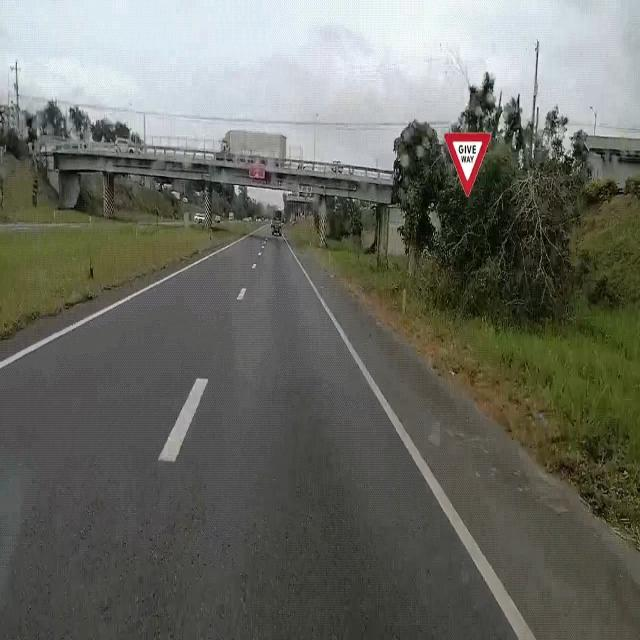Ceder-le-Passage: (440, 126, 493, 212)
